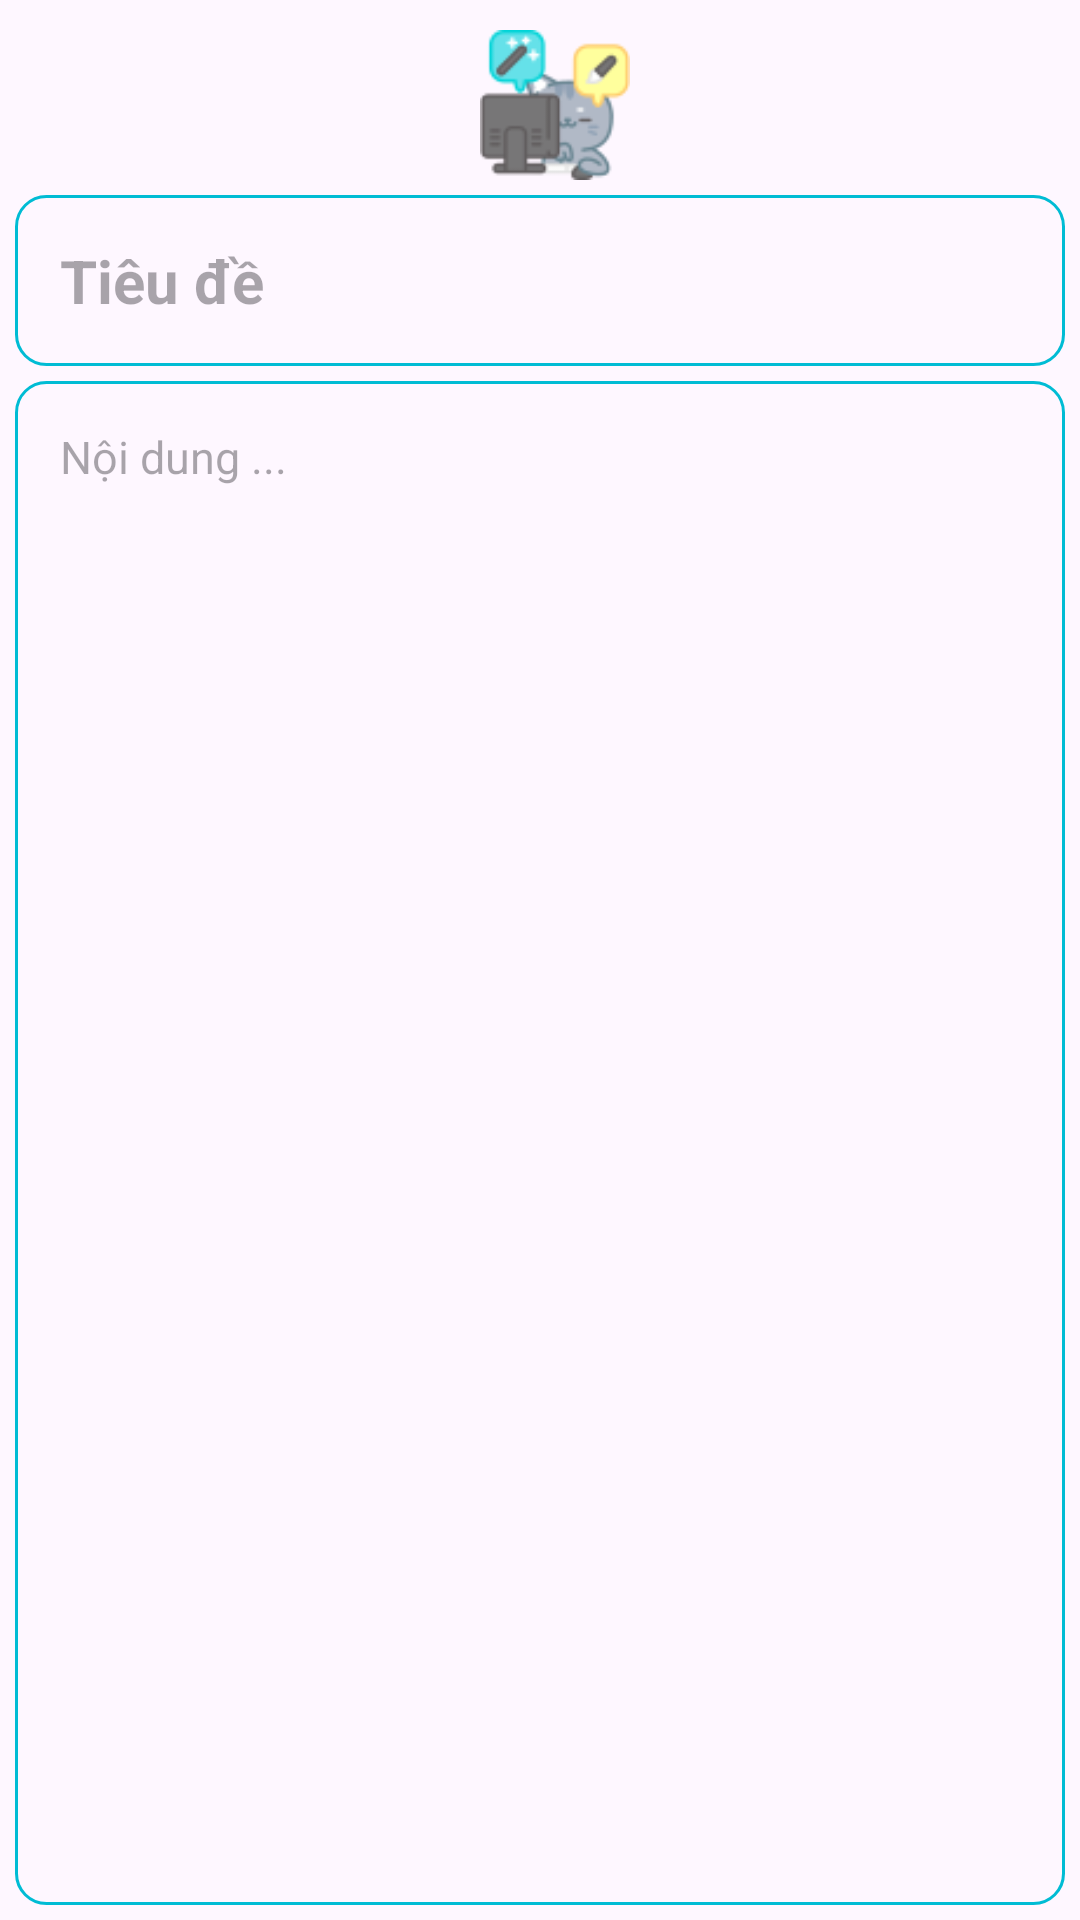

Named icons in this screenshot (1080x1920) and their bounding boxes, (x1, y1, x2, y2):
photocat editing: (480, 30, 630, 180)
